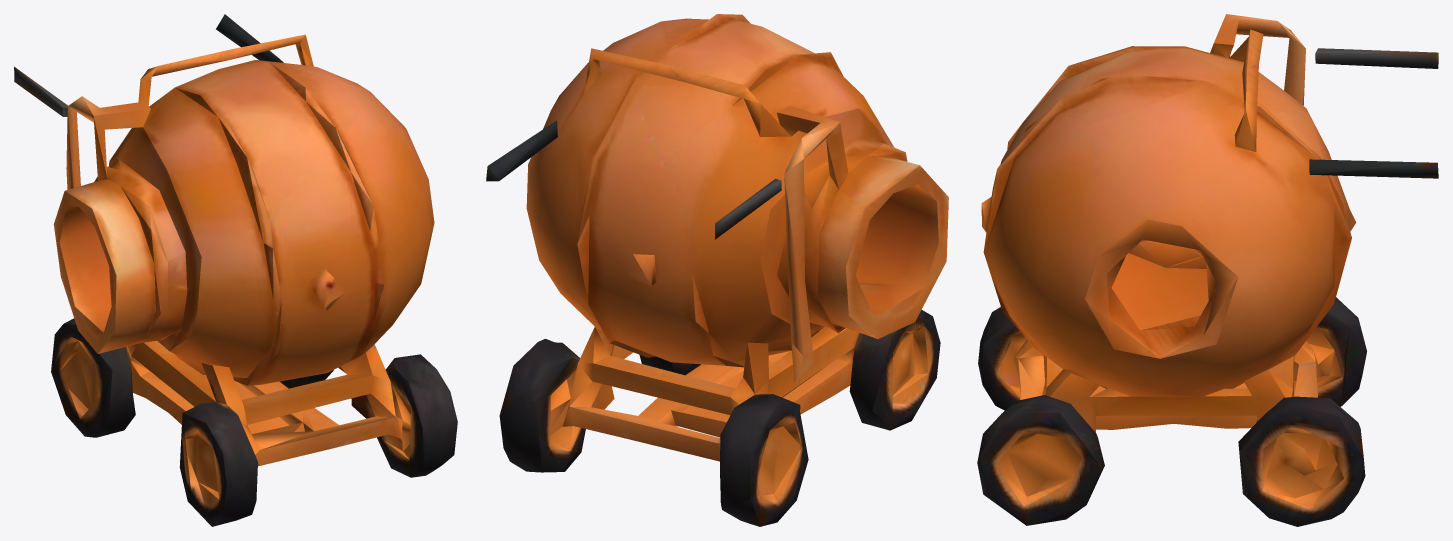
File: cementMixer.glb
The picture shows the model from 3 angles, left to right: view 1: azimuth 30°, elevation 25°; view 2: azimuth 150°, elevation 25°; view 3: azimuth 270°, elevation 25°; orthographic projection. The views are drawn at different scales.
Parts seen in each view (by area): view 1: model; view 2: model; view 3: model.
Boxes of the visible parts, bbox=[...] form: model: bbox=[14, 14, 457, 526]; model: bbox=[486, 14, 948, 526]; model: bbox=[977, 14, 1438, 526].
Bounding box in the file's own units: 1.66 × 1.85 × 1.9.
1 material, 1 textured.
